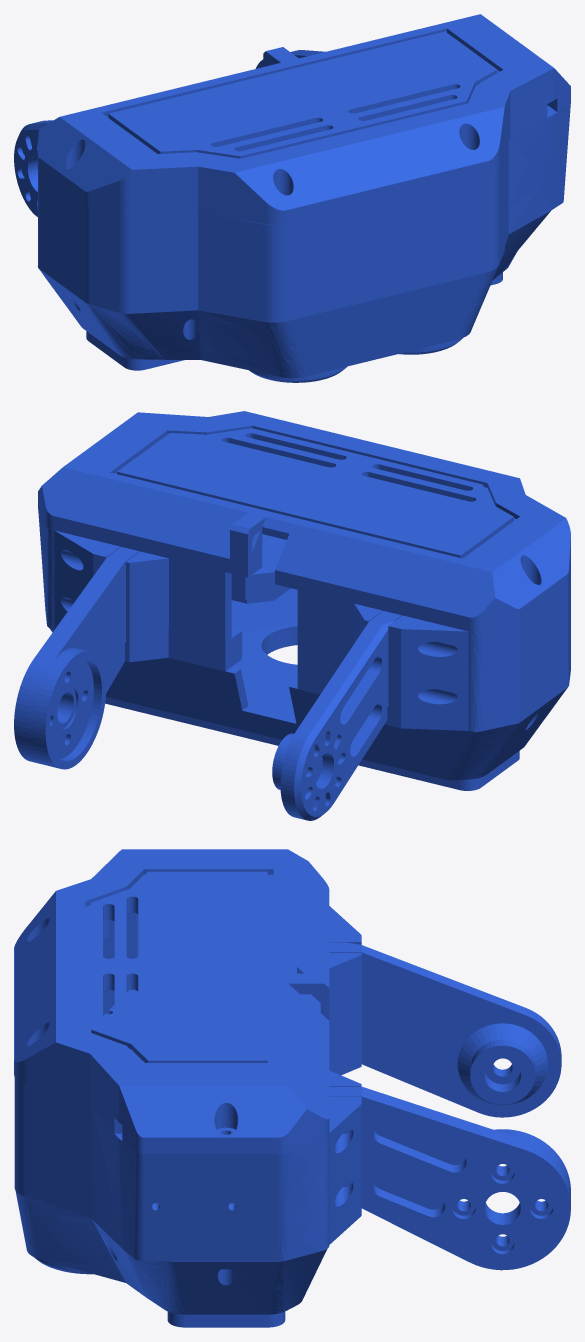
File: pitch_camera.obj
The picture shows the model from 3 angles, top to bottom: view 1: azimuth 30°, elevation 25°; view 2: azimuth 150°, elevation 25°; view 3: azimuth 270°, elevation 25°; orthographic projection. The views are drawn at different scales.
Visible parts, largest first — view 1: pitch_bracket_backplate, pitch_assembly_bracket, range_sensor_bezel, pitch_right_rocker_arm; view 2: pitch_bracket_backplate, pitch_assembly_bracket, range_sensor_bezel, pitch_left_rocker_arm, pitch_right_rocker_arm; view 3: pitch_bracket_backplate, pitch_assembly_bracket, pitch_left_rocker_arm, pitch_right_rocker_arm, range_sensor_bezel.
Part boxes in pixels (x1,y1,x2,y2): pitch_bracket_backplate: (37,14,570,225); pitch_assembly_bracket: (38,102,570,322); range_sensor_bezel: (37,211,550,382); pitch_right_rocker_arm: (14,120,52,216); pitch_bracket_backplate: (38,411,570,632); pitch_assembly_bracket: (38,510,570,731); range_sensor_bezel: (49,588,570,790); pitch_left_rocker_arm: (14,547,139,769); pitch_right_rocker_arm: (272,611,401,820); pitch_bracket_backplate: (14,849,329,1153); pitch_assembly_bracket: (14,906,361,1261); pitch_left_rocker_arm: (329,1086,570,1270); pitch_right_rocker_arm: (329,942,561,1117); range_sensor_bezel: (15,1190,327,1327).
Bounding box in the file's own units: 106 × 48 × 94.74.
